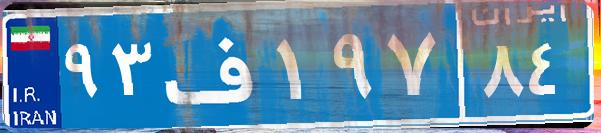1: (273, 28, 330, 110)
3: (110, 28, 158, 105)
4: (525, 38, 570, 115)
7: (385, 28, 445, 110)
8: (475, 38, 525, 113)
9: (330, 28, 385, 110), (57, 26, 110, 107)
ف: (158, 15, 273, 115)
